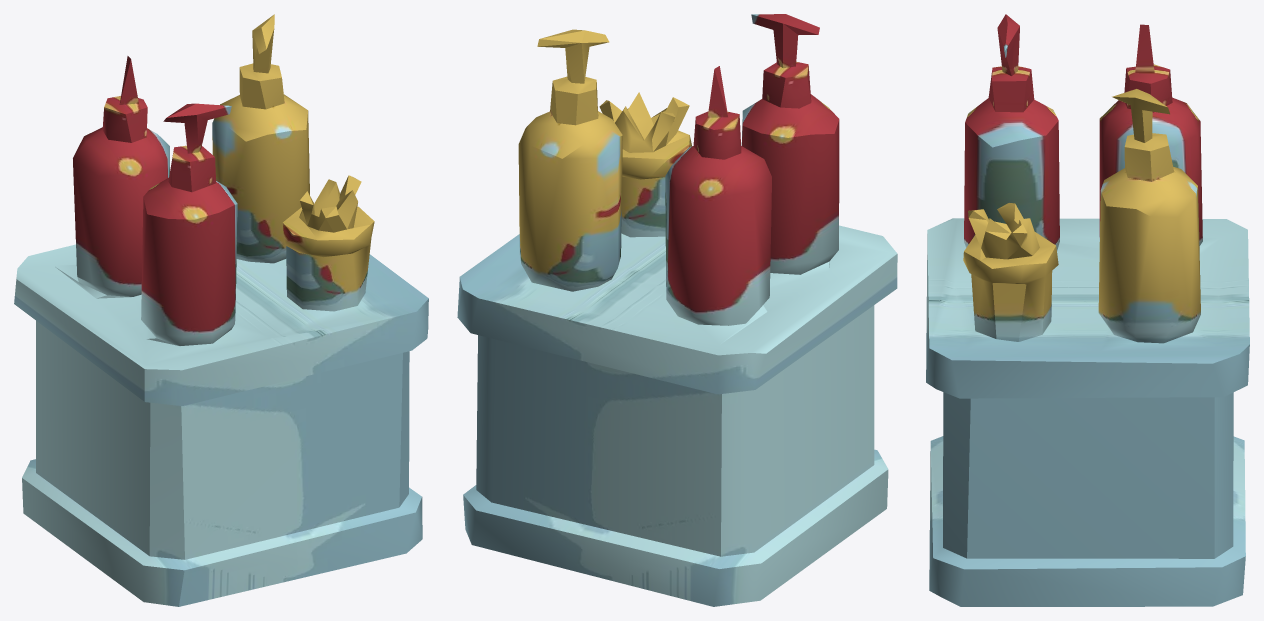
The picture shows the model from 3 angles, left to right: view 1: azimuth 30°, elevation 25°; view 2: azimuth 150°, elevation 25°; view 3: azimuth 270°, elevation 25°; orthographic projection. The views are drawn at different scales.
Visible parts, largest first — view 1: Decor_condiment_stand; view 2: Decor_condiment_stand; view 3: Decor_condiment_stand.
Part boxes in pixels (bbox=[...]): Decor_condiment_stand: bbox=[14, 14, 428, 606]; Decor_condiment_stand: bbox=[457, 14, 897, 606]; Decor_condiment_stand: bbox=[926, 14, 1249, 606].
Bounding box in the file's own units: 0.7158 × 1.1 × 0.6695.
1 material, 1 textured.
